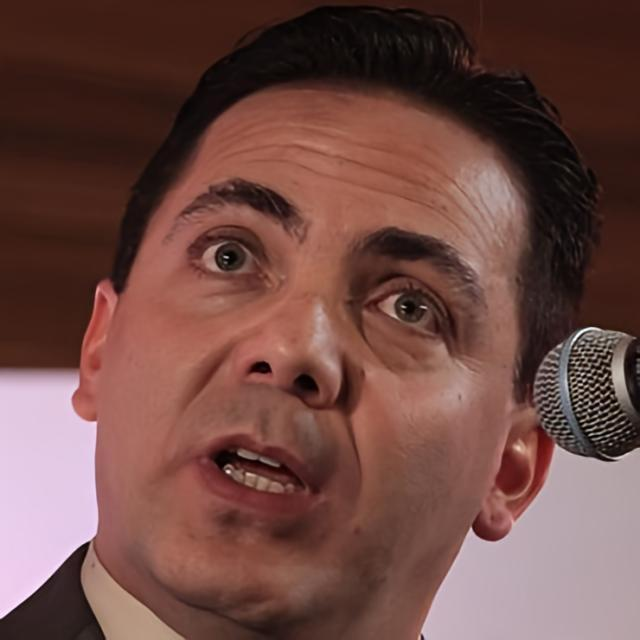surprise: (94, 80, 516, 630)
